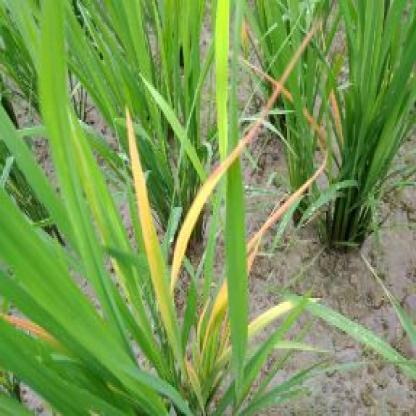Tungro: (123, 104, 200, 376)
